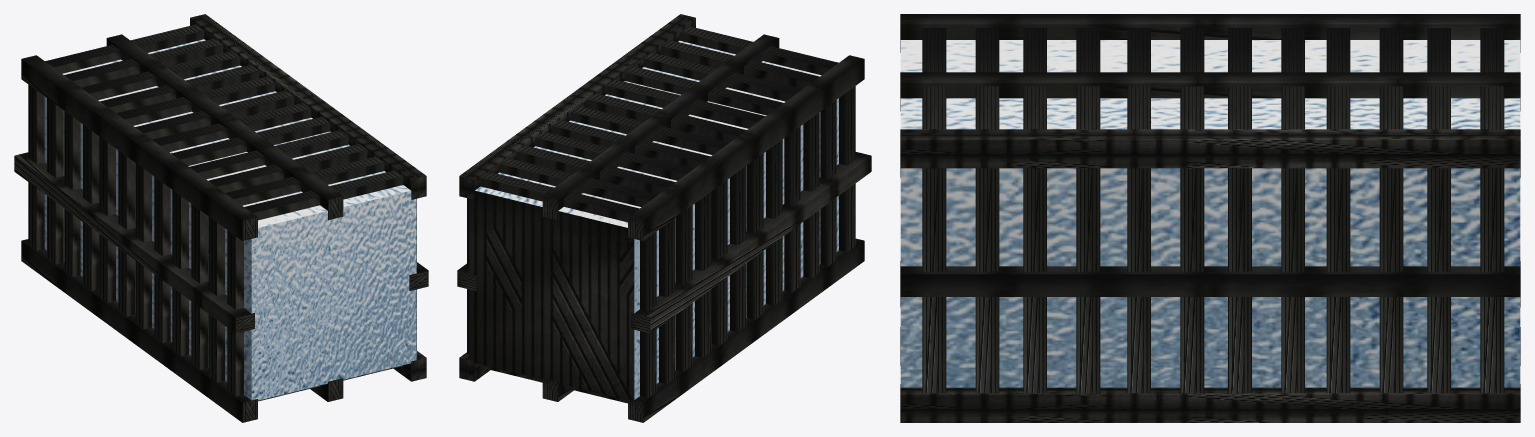
Rendered from torre.fbx.
3 views of the same model, side by side, from view 1: azimuth 30°, elevation 25°; view 2: azimuth 150°, elevation 25°; view 3: azimuth 270°, elevation 25° (orthographic). The views are drawn at different scales.
Visible parts, largest first — view 1: newbuilding; view 2: newbuilding; view 3: newbuilding.
Boxes of the visible parts, x1,y1,x2,y2 form: newbuilding: (14, 14, 428, 422); newbuilding: (457, 14, 871, 422); newbuilding: (900, 14, 1520, 422).
Size of the model in its own units: 96.25 by 96.25 by 191.
